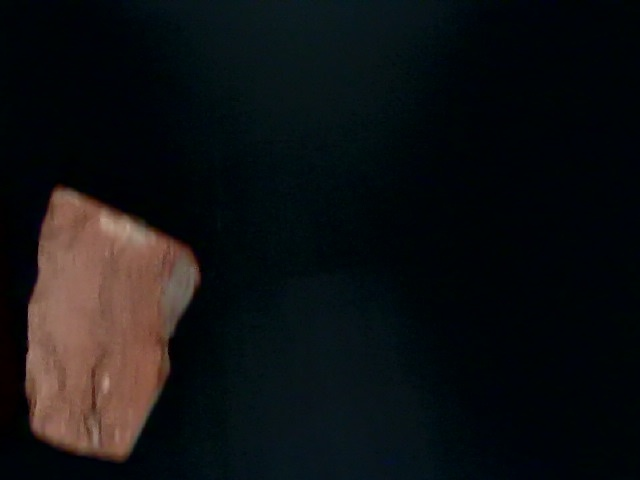KHSLJ: (1, 146, 326, 425)
